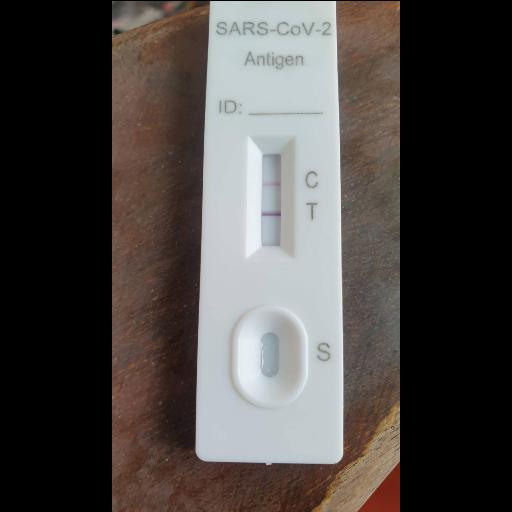Pos: (192, 0, 343, 464)
